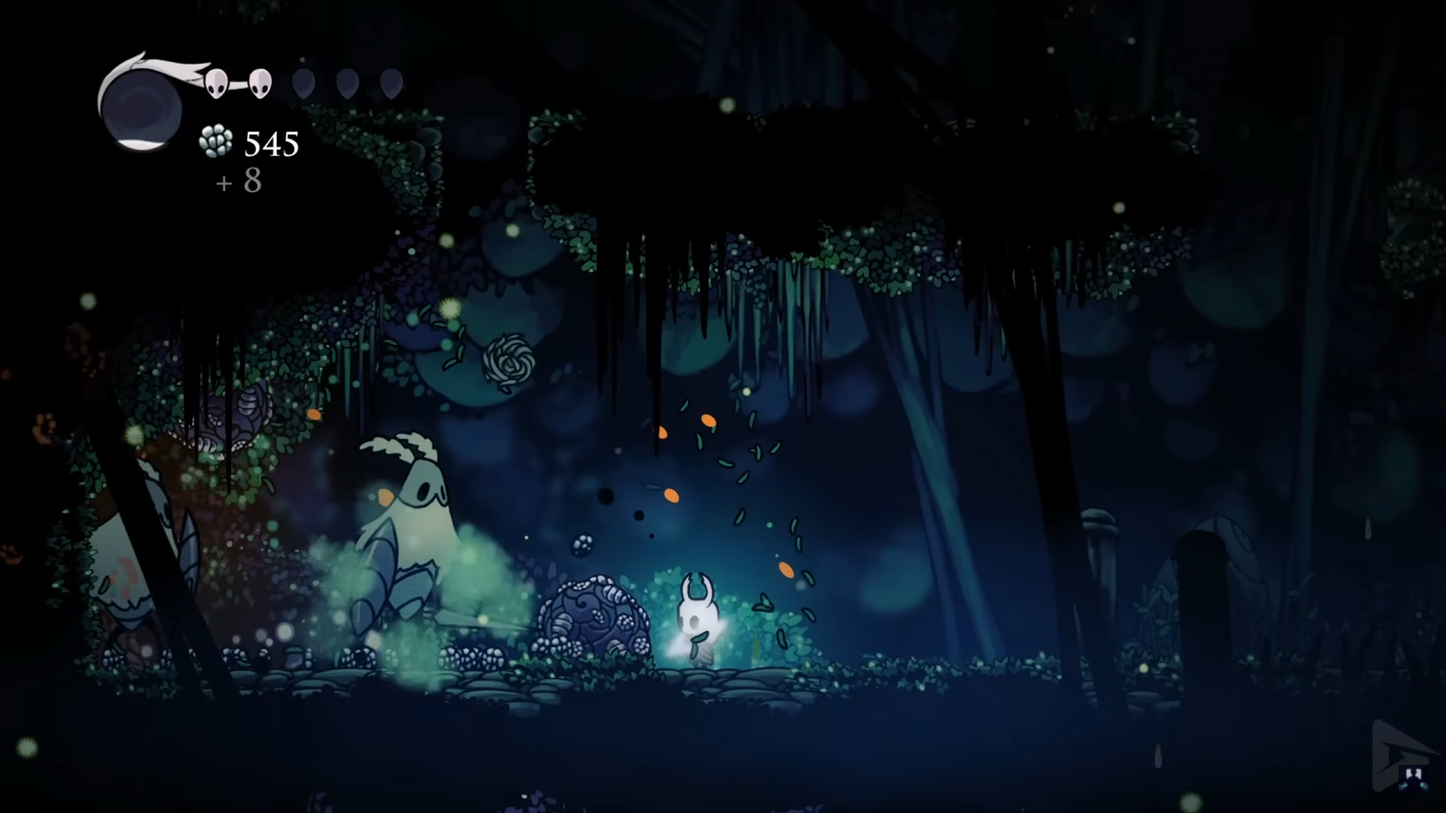HK: (674, 569, 729, 667)
